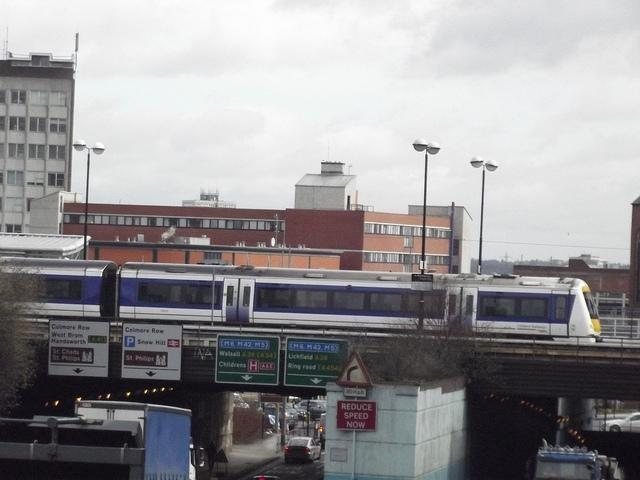car: (285, 436, 321, 462), (602, 412, 640, 433), (296, 399, 327, 417), (286, 403, 298, 432), (298, 412, 306, 421)
truck: (76, 401, 197, 480), (534, 436, 618, 480)
